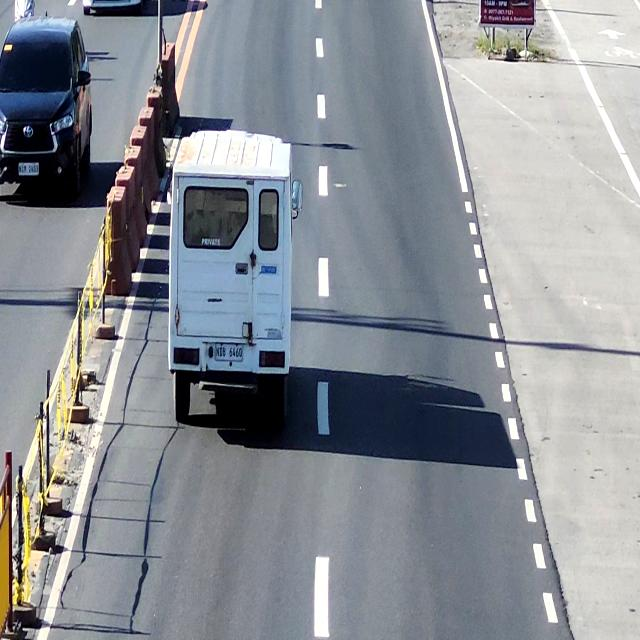Car: (169, 128, 302, 432), (0, 16, 101, 198)
License-Plate: (215, 340, 245, 366), (18, 163, 42, 181)
